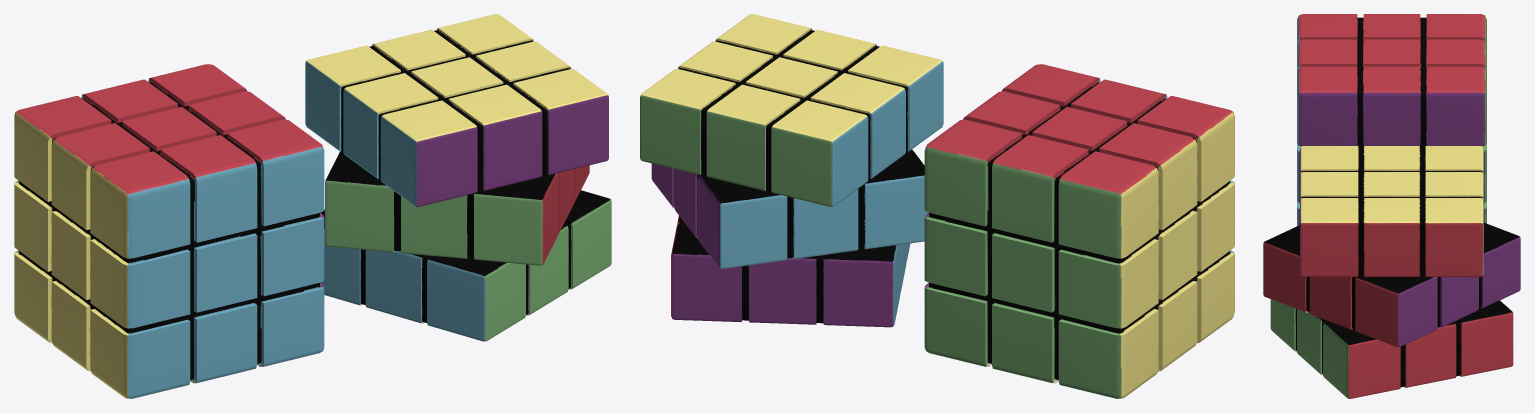
File: Puzzle cube.fbx
The picture shows the model from 3 angles, left to right: view 1: azimuth 30°, elevation 25°; view 2: azimuth 150°, elevation 25°; view 3: azimuth 270°, elevation 25°; orthographic projection. The views are drawn at different scales.
Visible parts, largest first — view 1: cube1, cube2; view 2: cube1, cube2; view 3: cube2, cube1.
Boxes of the visible parts, <box> form: cube1: <box>14,64,324,398</box>; cube2: <box>305,14,611,341</box>; cube1: <box>924,64,1234,398</box>; cube2: <box>640,14,943,327</box>; cube2: <box>1263,146,1520,398</box>; cube1: <box>1297,14,1486,225</box>.
Bounding box in the file's own units: 7.23 × 2.92 × 3.75.
Materials: 2 (2 with a texture image).
